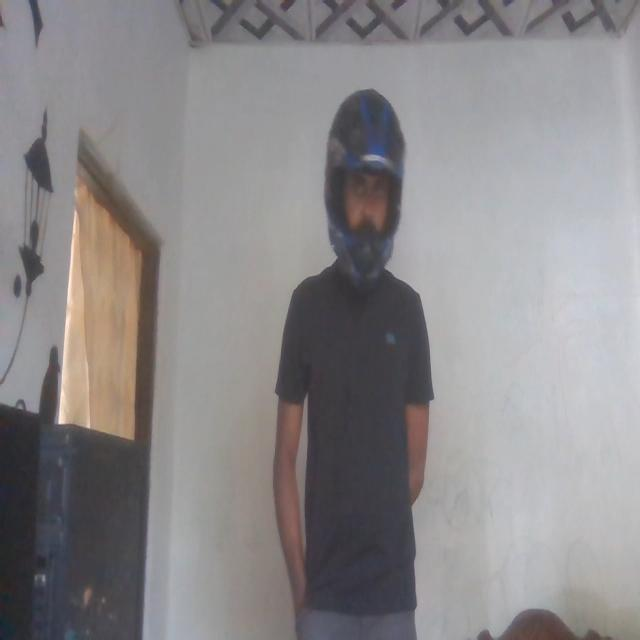Helmet_Wearer: (307, 82, 404, 298)
Person: (272, 102, 438, 640)
